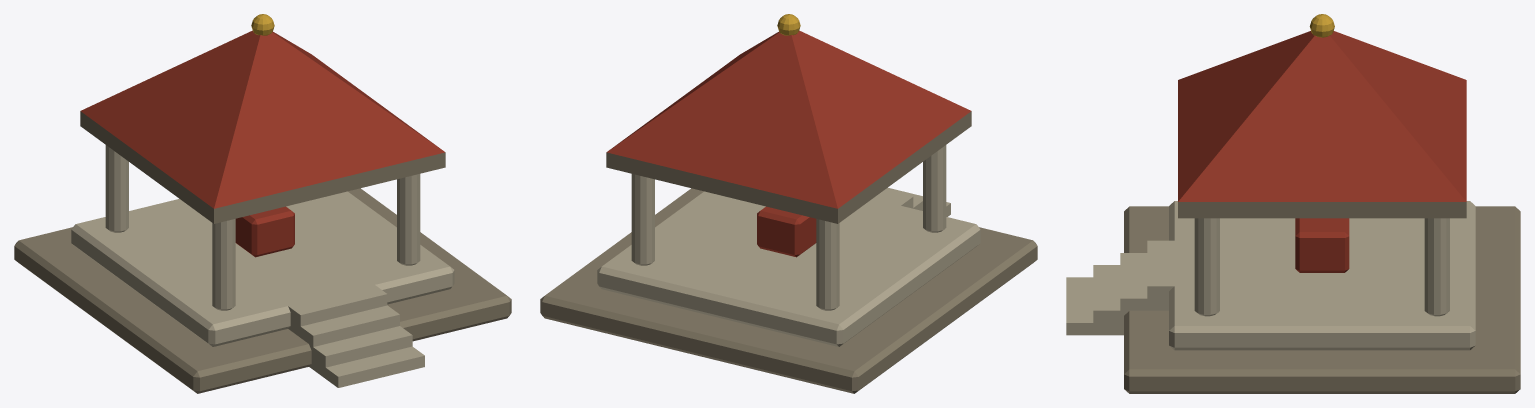
Rendered from temple.glb.
3 renders of one model, left to right at view 1: azimuth 30°, elevation 25°; view 2: azimuth 150°, elevation 25°; view 3: azimuth 270°, elevation 25°, orthographic. The views are drawn at different scales.
Visible parts, largest first — view 1: roof, platform, ground, steps, slab, altar, column_front_left, column_front_right, column_back_right; view 2: roof, platform, ground, slab, altar, column_back_left, column_back_right, column_front_right, steps; view 3: roof, platform, ground, steps, slab, altar, column_back_left, column_front_left, tip.
Part boxes in pixels (box(x1,y1,x2,y2)): roof: box(81, 30, 444, 208); platform: box(71, 191, 454, 346); ground: box(14, 188, 511, 393); steps: box(288, 285, 424, 387); slab: box(80, 111, 445, 223); altar: box(235, 206, 294, 257); column_front_left: box(397, 174, 420, 265); column_front_right: box(212, 219, 235, 310); column_back_right: box(105, 145, 128, 232); roof: box(606, 30, 970, 208); platform: box(597, 191, 980, 346); ground: box(540, 188, 1037, 393); slab: box(606, 111, 971, 223); altar: box(757, 206, 816, 257); column_back_left: box(631, 174, 654, 265); column_back_right: box(816, 219, 839, 310); column_front_right: box(923, 145, 946, 232); steps: box(873, 187, 950, 216); roof: box(1178, 31, 1466, 201); platform: box(1169, 201, 1475, 350); ground: box(1124, 206, 1520, 393); steps: box(1066, 240, 1174, 335); slab: box(1178, 202, 1466, 218); altar: box(1295, 218, 1349, 272); column_back_left: box(1424, 218, 1449, 316); column_front_left: box(1194, 218, 1219, 316); tip: box(1309, 14, 1334, 37).
Bounding box in the file's own units: 4.4 × 3.64 × 5.04.
